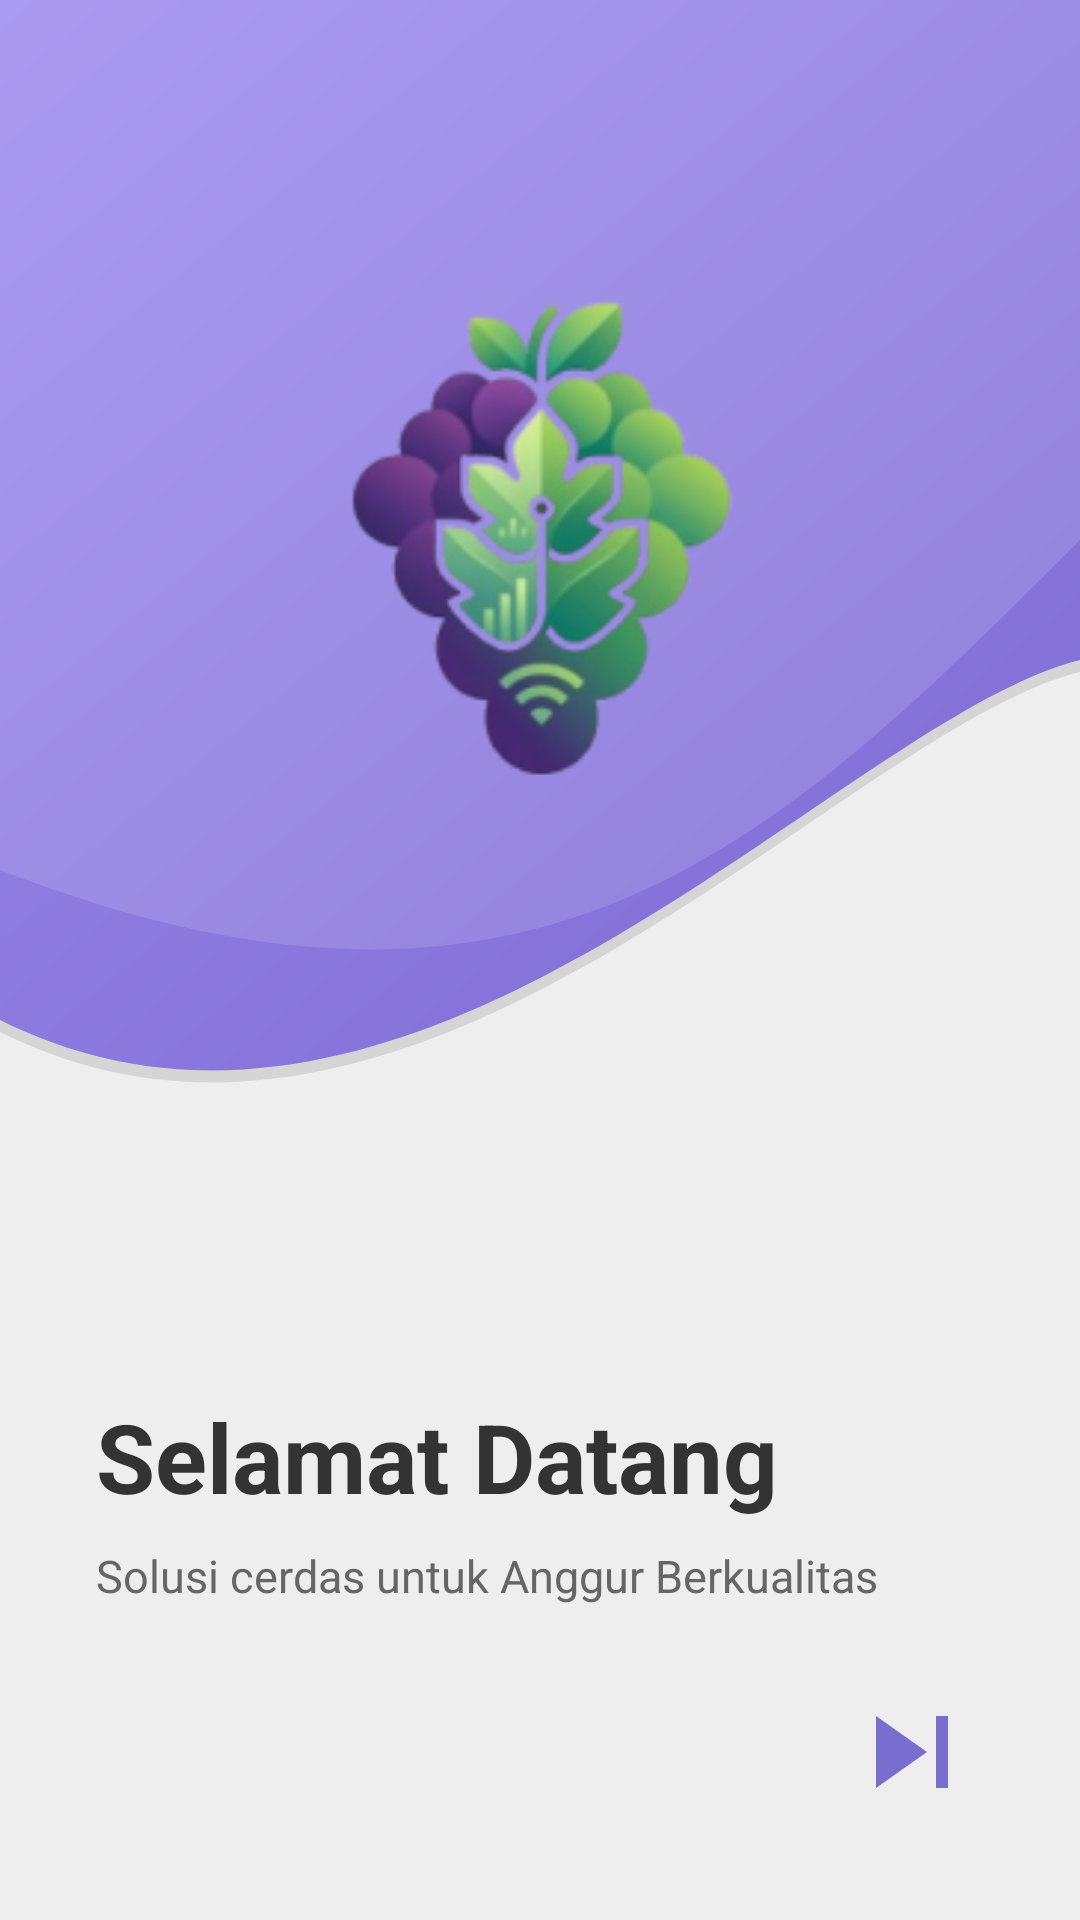

Icons on this 1080 × 1920 Android screen, each with the point to tap as point (x, y):
skip next: point (912, 1752)
